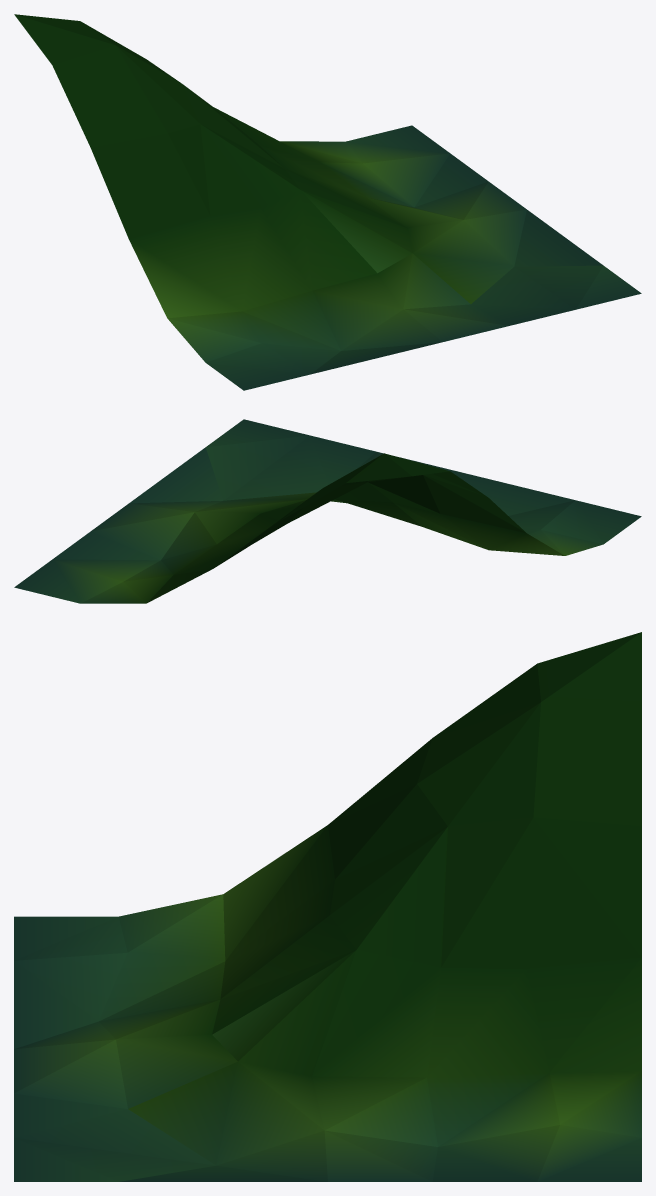
File: ShoreOB0.fbx
The picture shows the model from 3 angles, top to bottom: view 1: azimuth 30°, elevation 25°; view 2: azimuth 150°, elevation 25°; view 3: azimuth 270°, elevation 25°; orthographic projection. The views are drawn at different scales.
Visible parts, largest first — view 1: Shore_Block.010; view 2: Shore_Block.010; view 3: Shore_Block.010.
Part boxes in pixels (x1=…): Shore_Block.010: x1=14, y1=14, x2=641, y2=390; Shore_Block.010: x1=14, y1=419, x2=641, y2=603; Shore_Block.010: x1=14, y1=632, x2=641, y2=1181.
Size of the model in its own units: 200 by 107 by 200.
